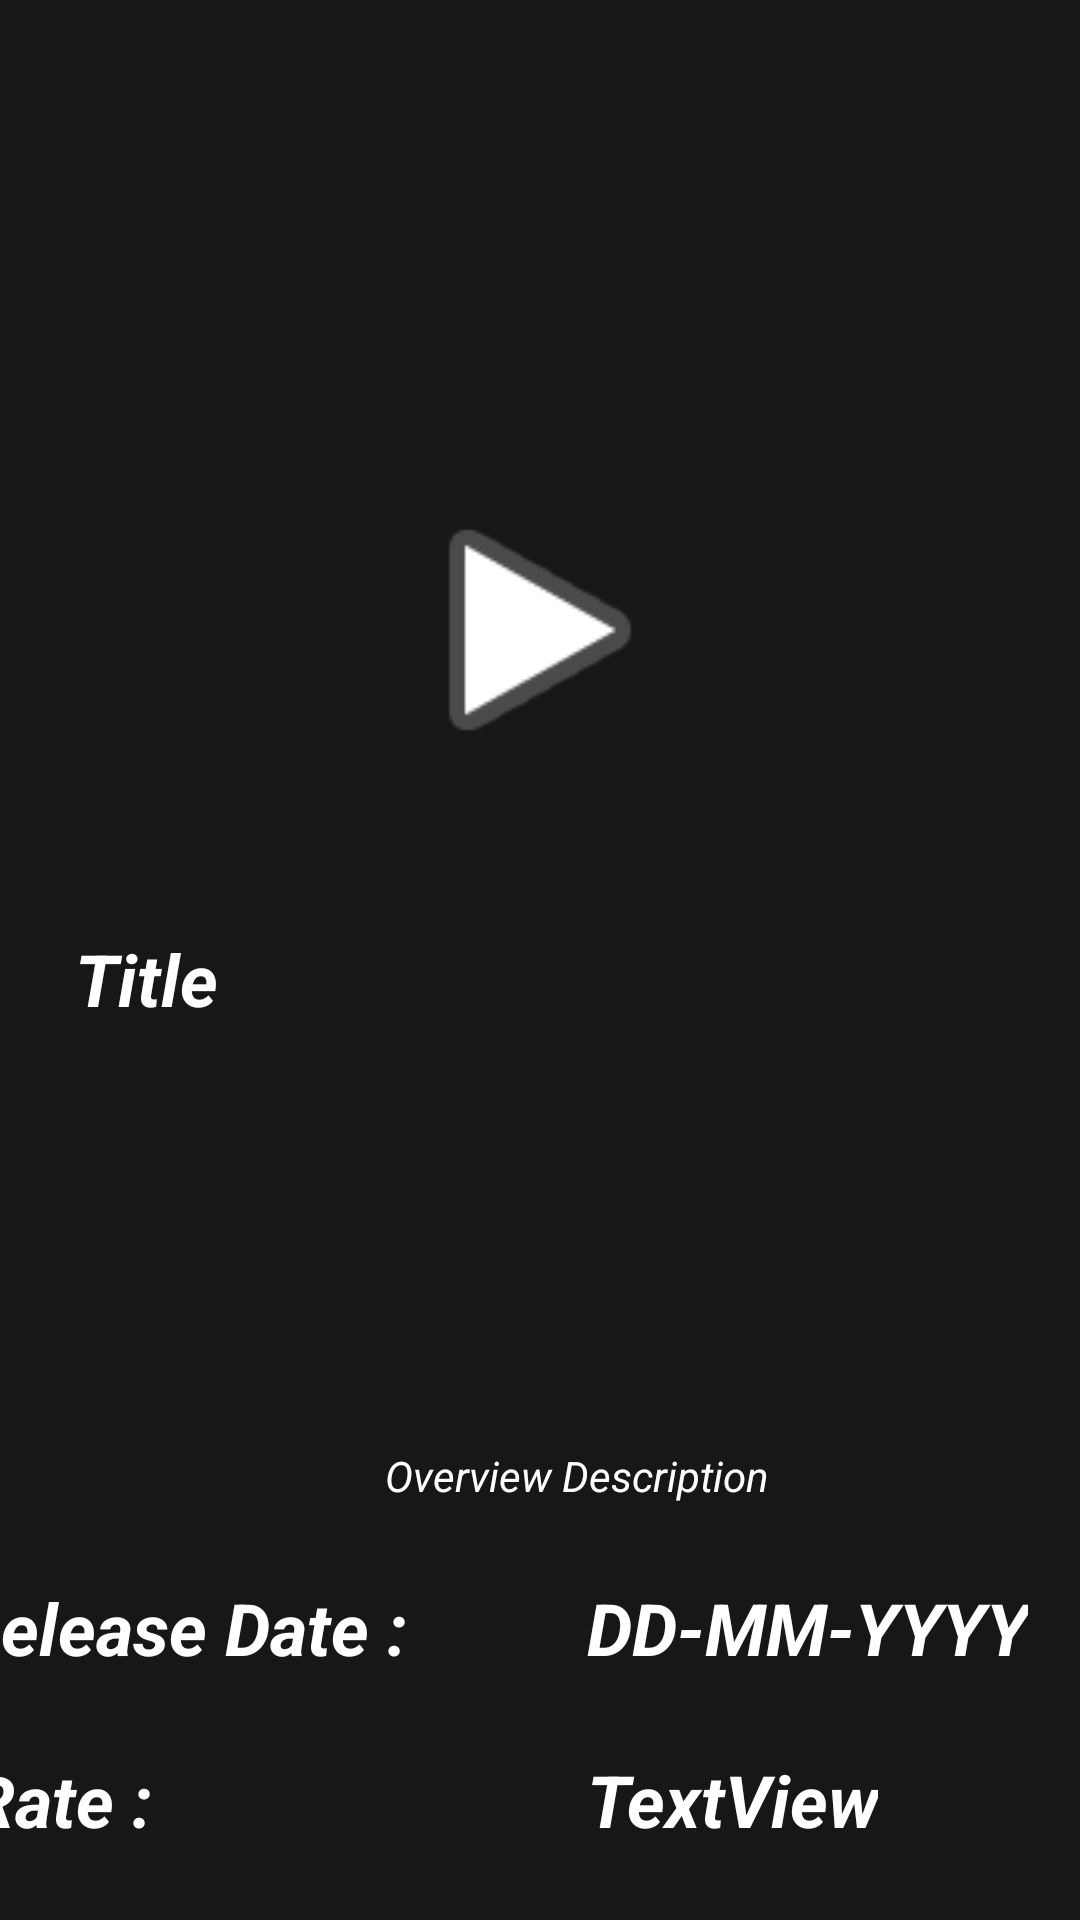

Point at icon controls on the screen. Image size 1080w x 1920h, points as (x=x, y=y).
Play Trailer Image: (x=540, y=630)
